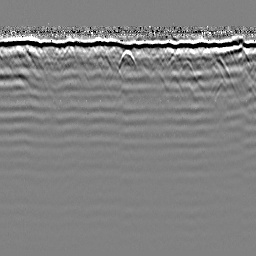cavity: (119, 49, 136, 69)
